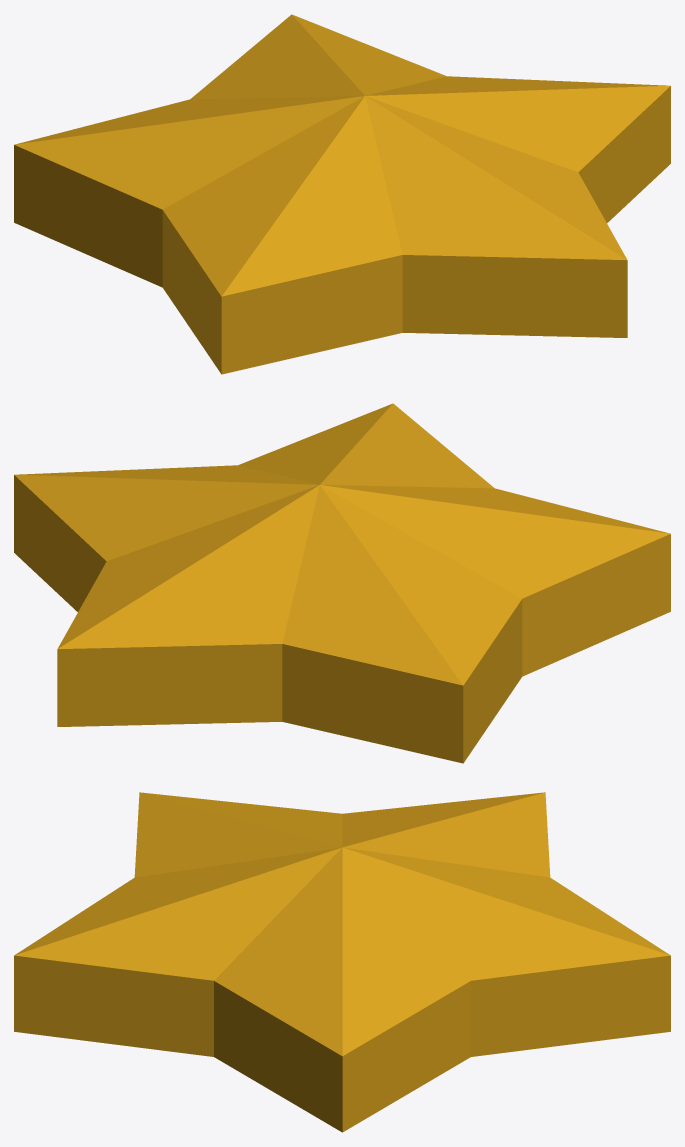
Rendered from FX_Star.obj.
3 views of the same model, one above another, from view 1: azimuth 30°, elevation 25°; view 2: azimuth 150°, elevation 25°; view 3: azimuth 270°, elevation 25° (orthographic). The views are drawn at different scales.
Visible parts, largest first — view 1: FX_Star_0; view 2: FX_Star_0; view 3: FX_Star_0.
Boxes of the visible parts, x1,y1,x2,y2 form: FX_Star_0: [14, 14, 670, 374]; FX_Star_0: [14, 403, 670, 763]; FX_Star_0: [14, 792, 670, 1132].
Bounding box in the file's own units: 0.0181 × 0.00646 × 0.019.
